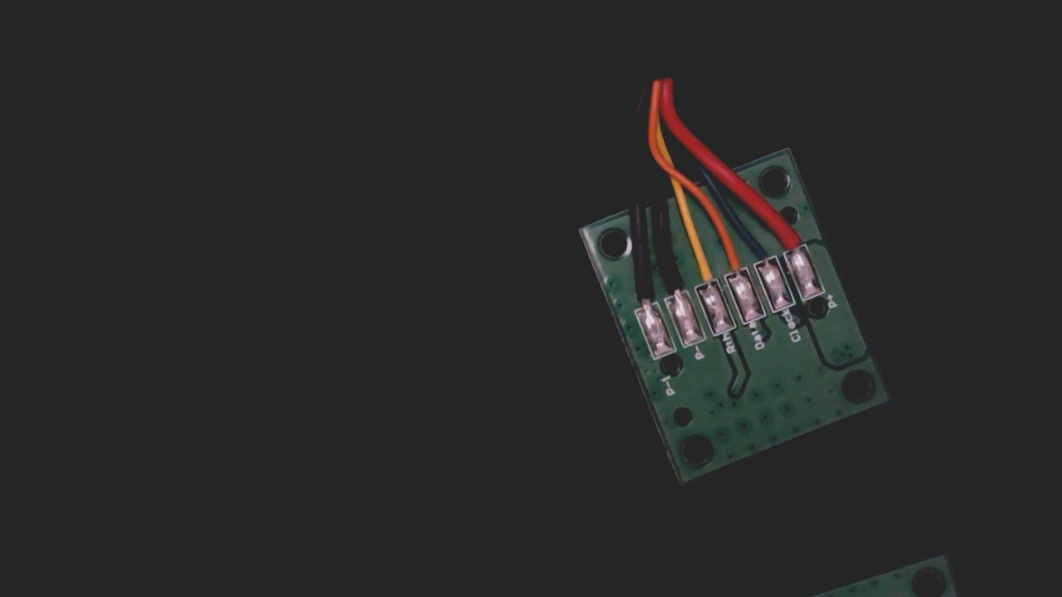Black: (648, 245, 695, 312)
Black1: (618, 261, 662, 322)
Green: (737, 214, 783, 278)
Orange: (709, 223, 754, 288)
Red: (766, 203, 812, 268)
Yellow: (677, 232, 724, 300)
